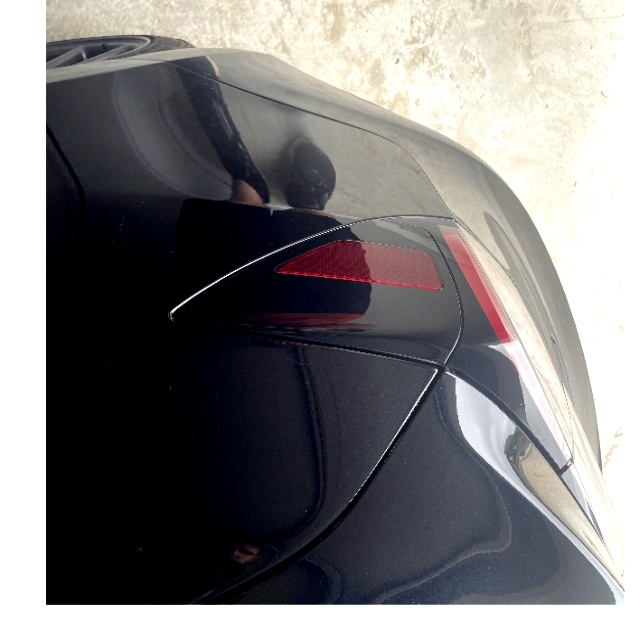reflector: (275, 239, 442, 289)
